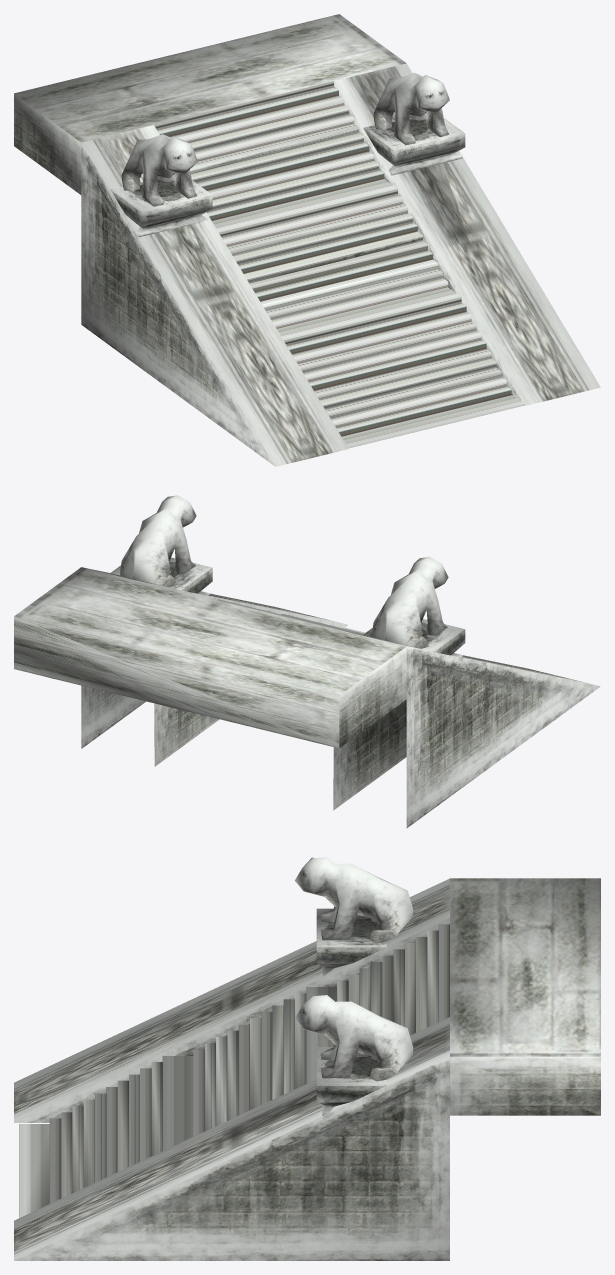
File: snow-002-inwall-02_lod_01.fbx
The picture shows the model from 3 angles, top to bottom: view 1: azimuth 30°, elevation 25°; view 2: azimuth 150°, elevation 25°; view 3: azimuth 270°, elevation 25°; orthographic projection. The views are drawn at different scales.
Parts seen in each view (by area): view 1: snow-002-inwall-02; view 2: snow-002-inwall-02; view 3: snow-002-inwall-02.
Boxes of the visible parts, x1,y1,x2,y2 form: snow-002-inwall-02: [14, 14, 600, 466]; snow-002-inwall-02: [14, 495, 600, 828]; snow-002-inwall-02: [14, 857, 600, 1260].
Size of the model in its own units: 11.38 by 7.39 by 15.85.
